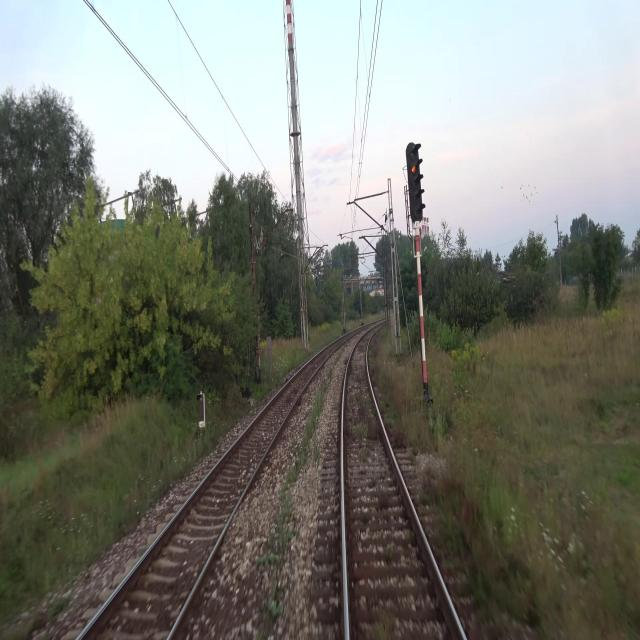rail-track: (81, 340, 341, 639), (344, 329, 462, 639)
